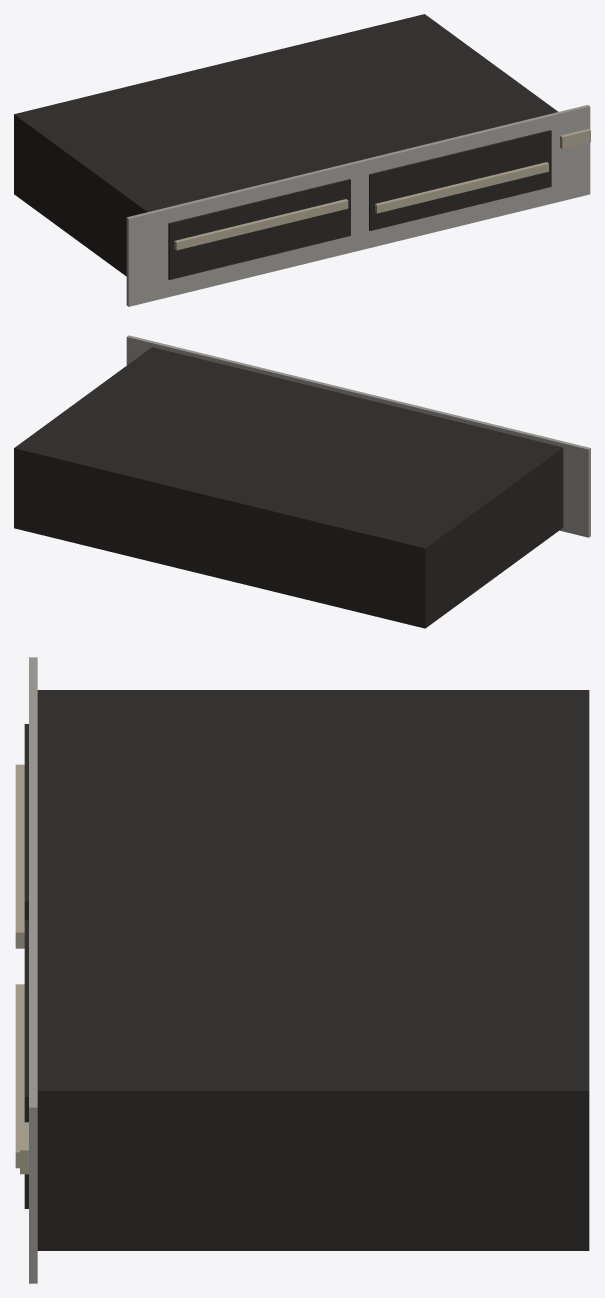
The model's file is graphic-eq.glb.
3 views of the same model, one above another, from view 1: azimuth 30°, elevation 25°; view 2: azimuth 150°, elevation 25°; view 3: azimuth 270°, elevation 25° (orthographic). The views are drawn at different scales.
Parts seen in each view (by area): view 1: plastic-dark, brushed, plastic-light; view 2: plastic-dark, brushed; view 3: plastic-dark, brushed, plastic-light.
Boxes of the visible parts, box(x1,y1,x2,y2) form: plastic-dark: box(14, 14, 557, 279); brushed: box(126, 105, 590, 306); plastic-light: box(174, 128, 590, 250); plastic-dark: box(14, 347, 563, 628); brushed: box(126, 335, 590, 537); plastic-dark: box(24, 690, 589, 1250); brushed: box(29, 657, 37, 1283); plastic-light: box(15, 764, 28, 1174).
Bounding box in the file's own units: 0.483 × 0.088 × 0.26.
